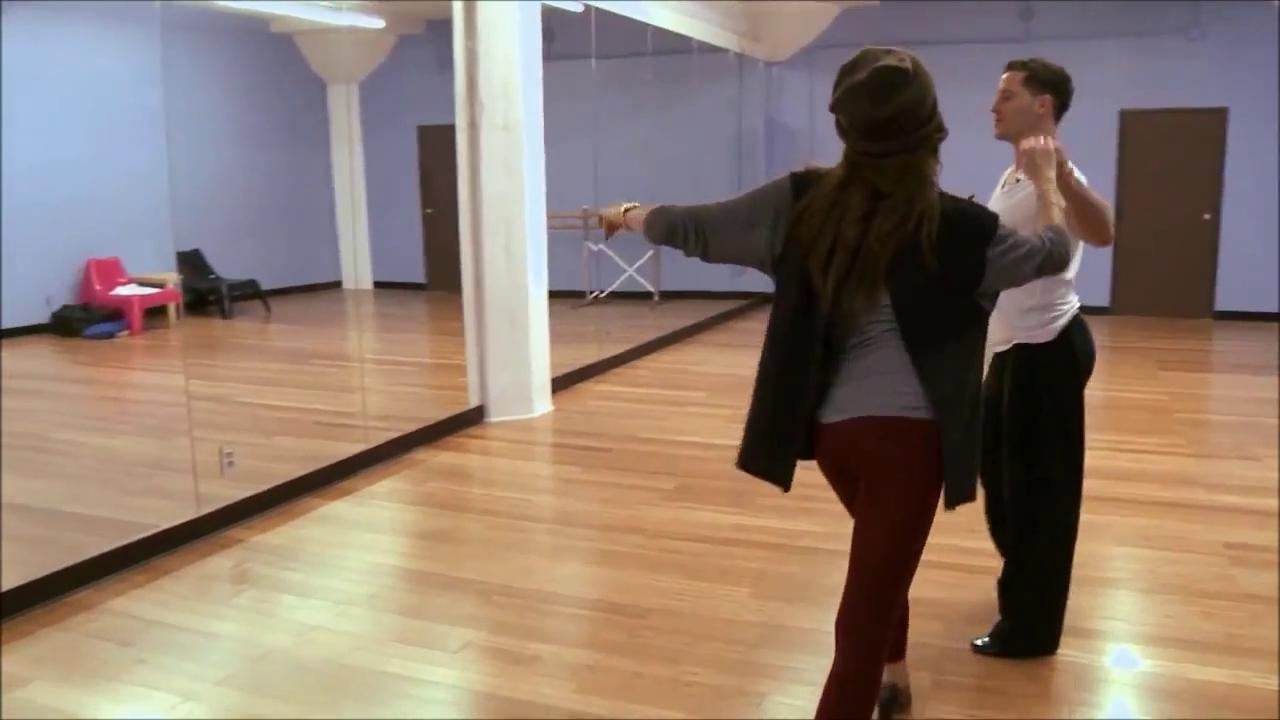victim: (598, 48, 1014, 719), (948, 56, 1116, 666)
